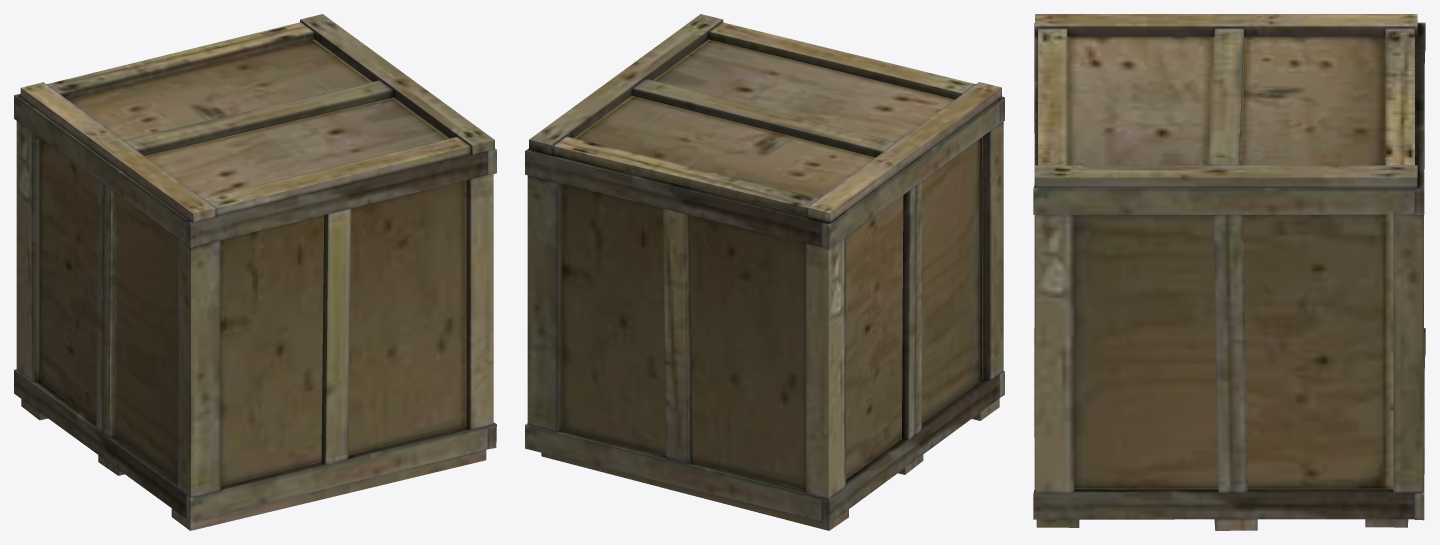
Rendered from wood_crate001a.glb.
3 views of the same model, side by side, from view 1: azimuth 30°, elevation 25°; view 2: azimuth 150°, elevation 25°; view 3: azimuth 270°, elevation 25° (orthographic). The views are drawn at different scales.
Visible parts, largest first — view 1: 0_woodcrates01a; view 2: 0_woodcrates01a; view 3: 0_woodcrates01a.
Part boxes in pixels (left/top/right/bottom): 0_woodcrates01a: left=14, top=14, right=496, bottom=530; 0_woodcrates01a: left=525, top=14, right=1004, bottom=530; 0_woodcrates01a: left=1033, top=14, right=1425, bottom=530.
Bounding box in the file's own units: 1.02 × 1.02 × 1.02.
1 material, 1 textured.
